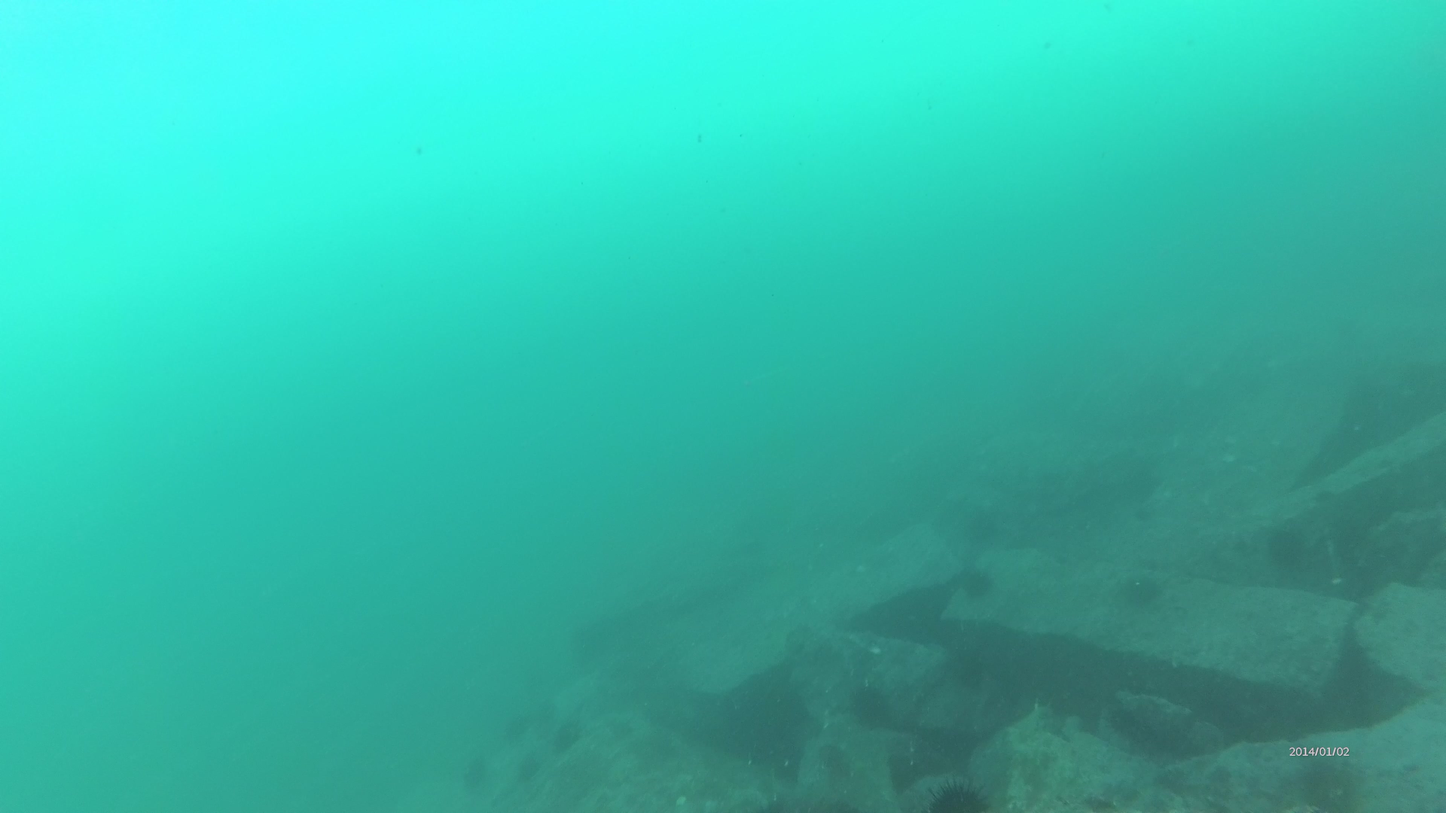starfish: (1283, 760, 1364, 804), (917, 784, 987, 813), (1115, 568, 1170, 603), (840, 690, 888, 725), (1267, 533, 1306, 568), (958, 566, 995, 594)
